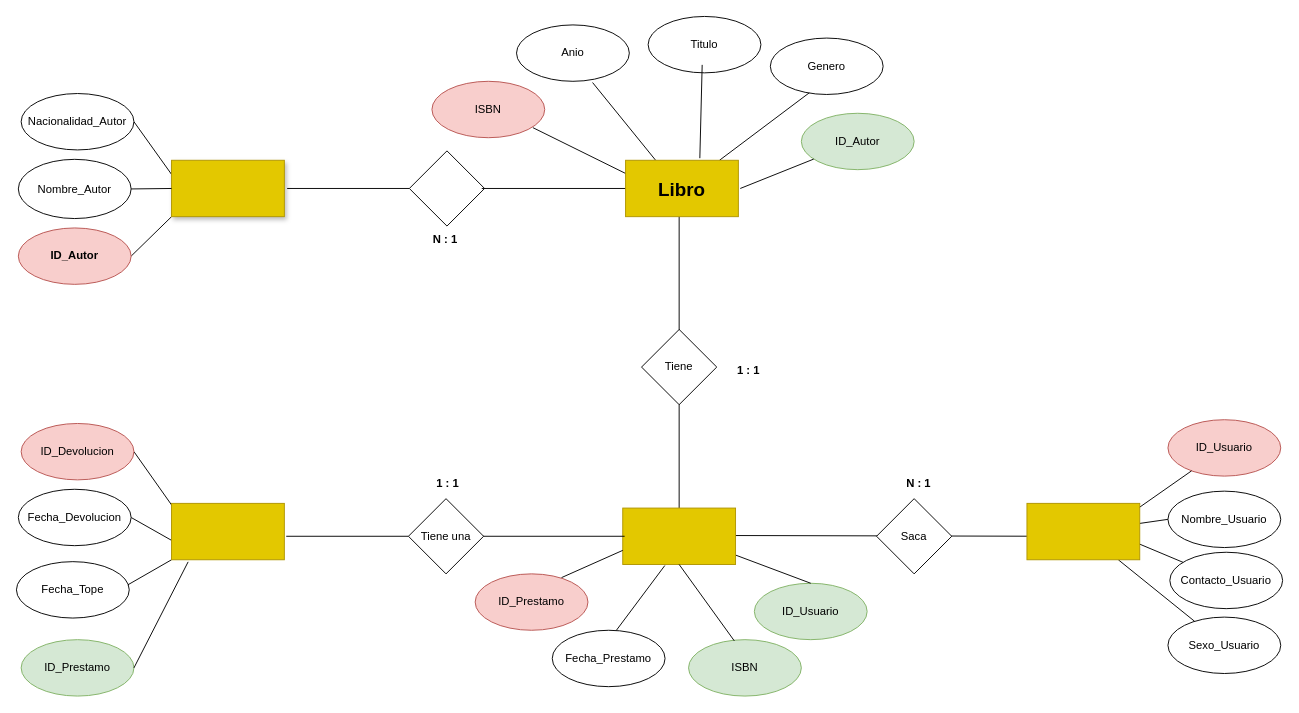
The diagram is 1299 pixels wide and 713 high, and some of its shapes have lost their labels. The shapes that lost their labels are listed below. From the top down, each one's centre as x and y in pixels, then its label:
At point (228, 189): "Autor".
At point (446, 188): "Escribe".
At point (227, 531): "Devolucion".
At point (679, 535): "Prestamo".
At point (1083, 531): "Usuario".
